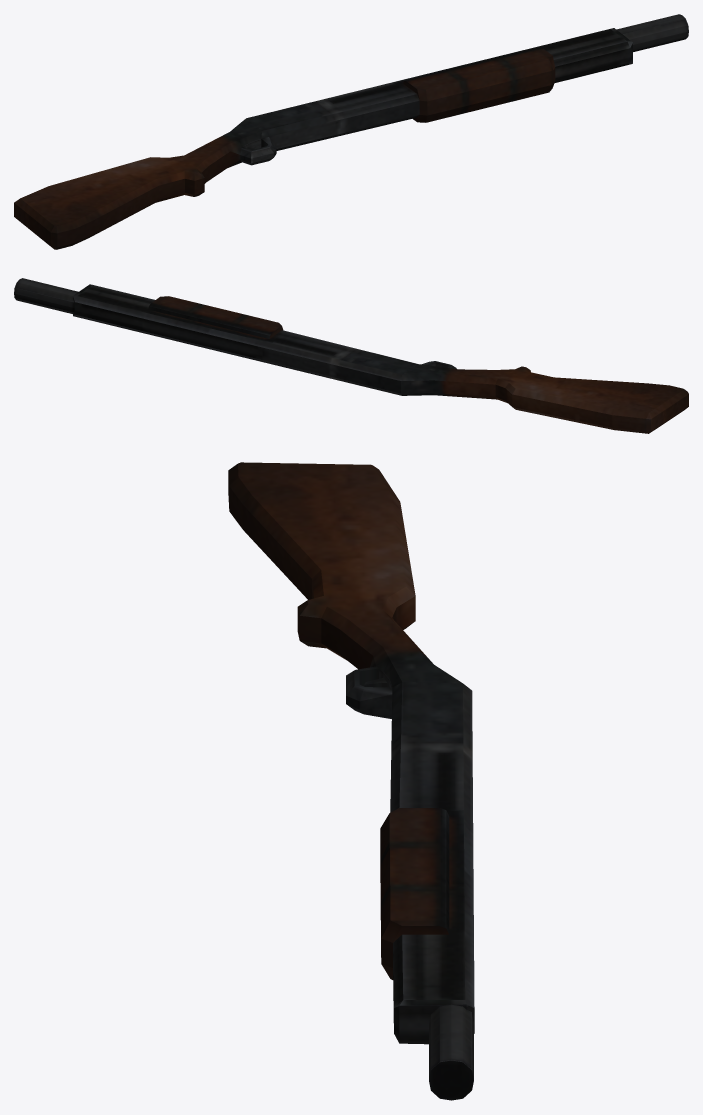
File: shotgun_1.fbx
3 renders of one model, top to bottom at view 1: azimuth 30°, elevation 25°; view 2: azimuth 150°, elevation 25°; view 3: azimuth 270°, elevation 25°, orthographic. The views are drawn at different scales.
Visible parts, largest first — view 1: shotgun_1; view 2: shotgun_1; view 3: shotgun_1.
Boxes of the visible parts, <box> form: shotgun_1: <box>14,14,688,249</box>; shotgun_1: <box>14,278,688,433</box>; shotgun_1: <box>228,462,474,1100</box>.
Bounding box in the file's own units: 1.44 × 0.2485 × 0.0655.
